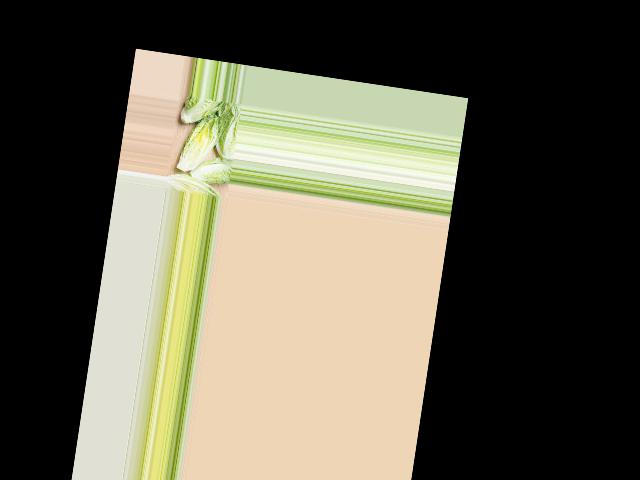lettuce: (165, 170, 223, 198)
